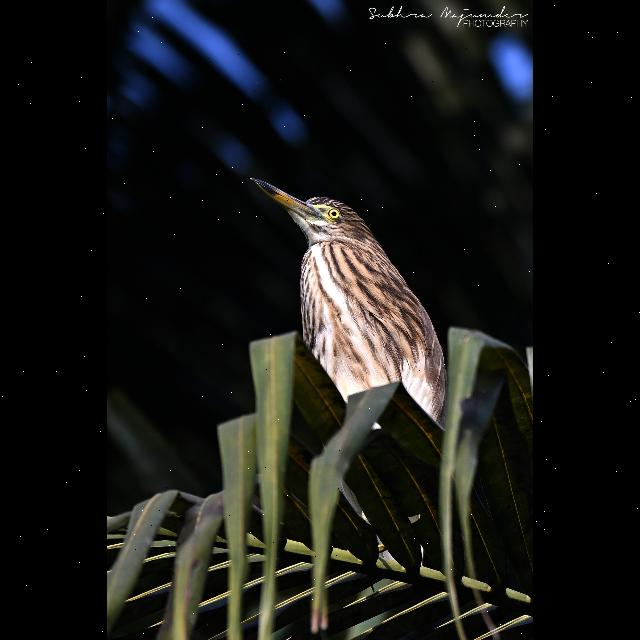heron: (239, 155, 463, 431)
